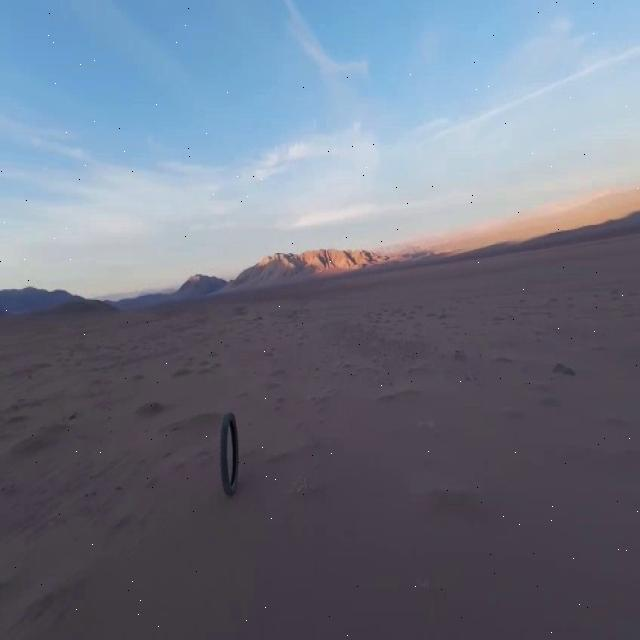Tire: (221, 412, 238, 495)
